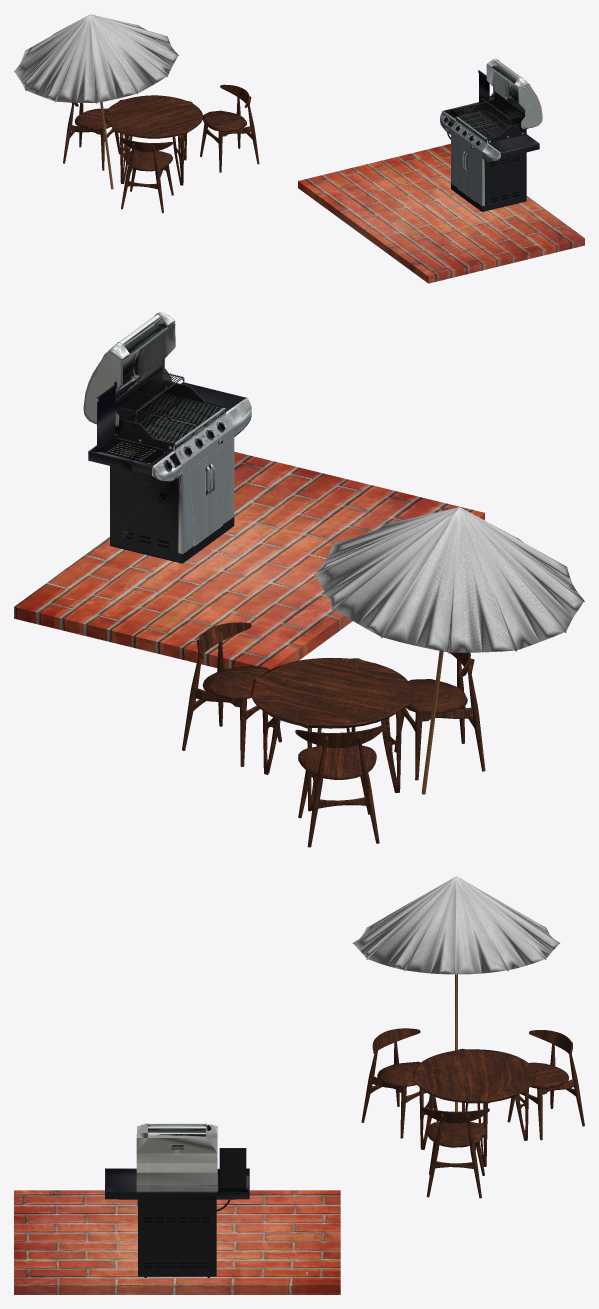
The model's file is parrilla.fbx.
3 renders of one model, top to bottom at view 1: azimuth 30°, elevation 25°; view 2: azimuth 150°, elevation 25°; view 3: azimuth 270°, elevation 25°, orthographic. The views are drawn at different scales.
Visible parts, largest first — view 1: Base, 10243_Patio_Umbrella_Open_v1_Iteration2, BBQ, Provisione_table_002, Provisione_table_063, Provisione_table_075, Provisione_table_089; view 2: Base, 10243_Patio_Umbrella_Open_v1_Iteration2, BBQ, Provisione_table_002, Provisione_table_089, Provisione_table_075, Provisione_table_063; view 3: Base, BBQ, 10243_Patio_Umbrella_Open_v1_Iteration2, Provisione_table_002, Provisione_table_075, Provisione_table_063, Provisione_table_089.
Boxes of the visible parts, x1,y1,x2,y2 form: Base: [298, 143, 584, 283]; 10243_Patio_Umbrella_Open_v1_Iteration2: [14, 14, 178, 189]; BBQ: [440, 59, 542, 211]; Provisione_table_002: [104, 95, 202, 185]; Provisione_table_063: [119, 137, 173, 213]; Provisione_table_075: [200, 84, 259, 172]; Provisione_table_089: [63, 102, 120, 170]; Base: [14, 451, 484, 669]; 10243_Patio_Umbrella_Open_v1_Iteration2: [314, 507, 584, 794]; BBQ: [83, 312, 251, 563]; Provisione_table_002: [251, 658, 411, 811]; Provisione_table_089: [295, 725, 384, 847]; Provisione_table_075: [182, 622, 281, 766]; Provisione_table_063: [394, 652, 485, 780]; Base: [14, 1190, 340, 1294]; BBQ: [105, 1123, 249, 1277]; 10243_Patio_Umbrella_Open_v1_Iteration2: [352, 876, 560, 1111]; Provisione_table_002: [412, 1048, 537, 1166]; Provisione_table_075: [421, 1107, 489, 1198]; Provisione_table_063: [361, 1028, 439, 1138]; Provisione_table_089: [507, 1030, 584, 1140].
Bounding box in the file's own units: 617 × 272 × 625.
Materials: 7 (7 with a texture image).
